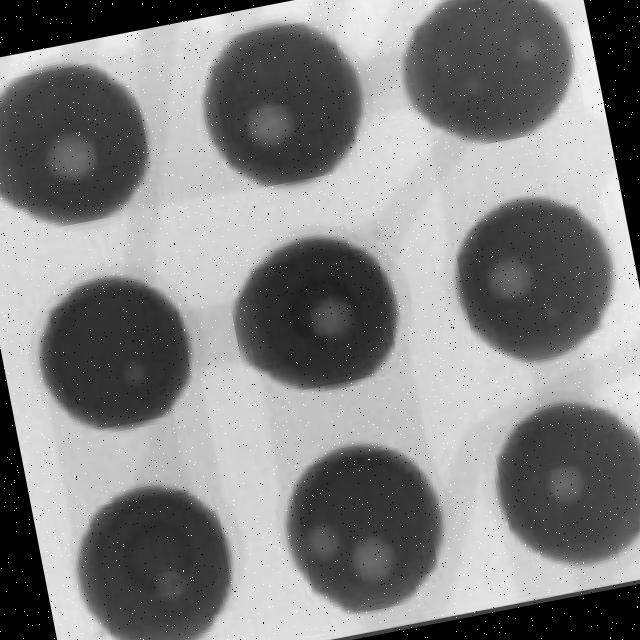chip: (227, 235, 398, 392), (199, 21, 360, 186), (454, 197, 611, 366), (284, 444, 438, 614), (0, 63, 151, 232), (401, 0, 576, 142), (75, 483, 231, 640), (496, 401, 640, 565), (38, 278, 190, 425)
void: (47, 137, 103, 180), (245, 100, 294, 149), (350, 535, 396, 583), (308, 295, 355, 337), (483, 259, 530, 300), (304, 515, 341, 565), (544, 464, 584, 502), (153, 568, 184, 599), (120, 357, 147, 386), (518, 36, 541, 62)
